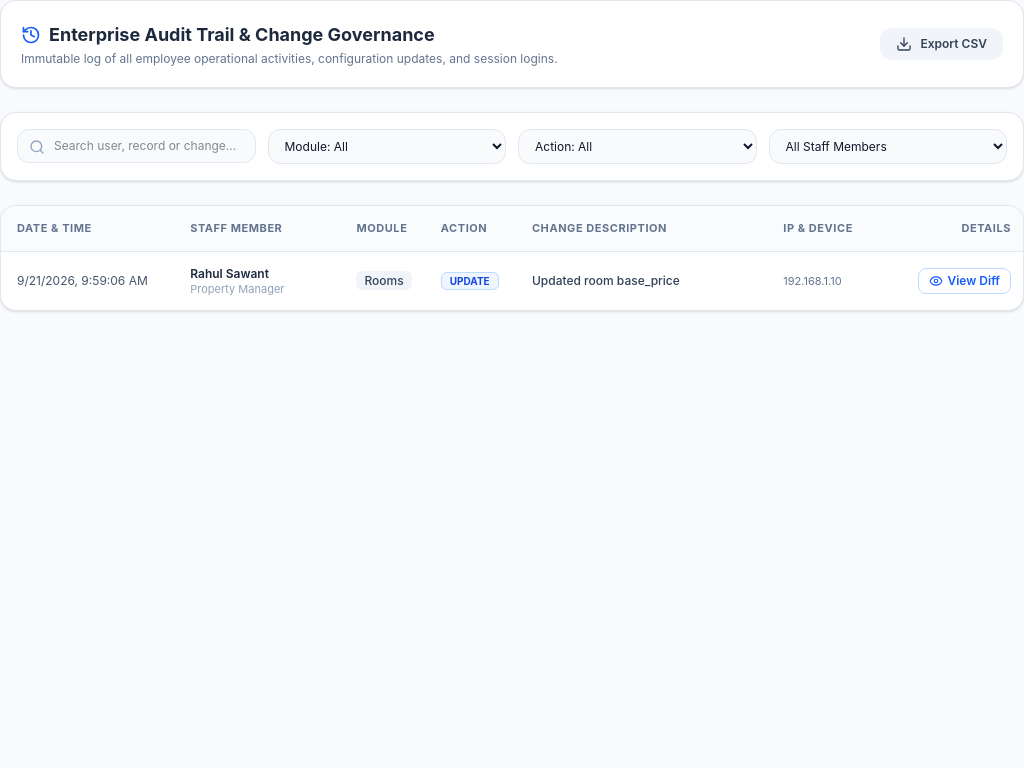
Scenario: Audit Trail & Session Management Suite › renders audit trail logs and opens diff inspector modal
This screenshot has width=1024, height=768.
Expected: the heading "Enterprise Audit Trail & Change Governance" is shown, [21,24,435,45]
Expected: the text "Rahul Sawant" is shown, [190,266,269,280]
// Click "View Diff"
Click the button "View Diff". click: (965, 281)
box: [918,268,1011,294]
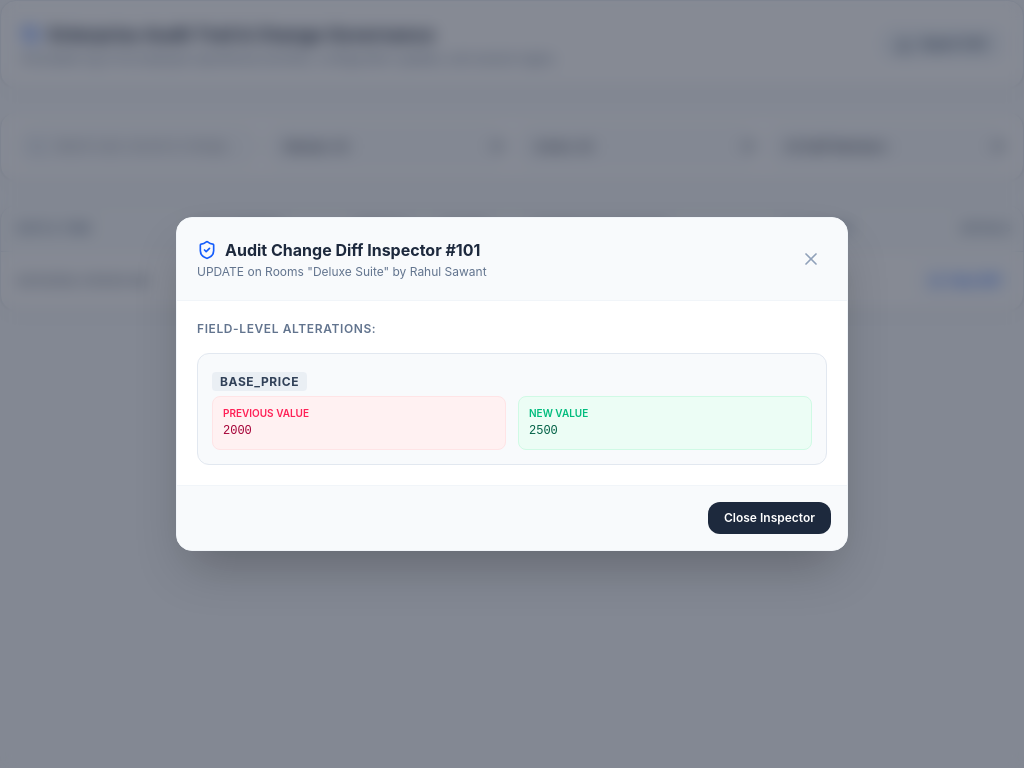
Result: the heading "Audit Change Diff Inspector #101" is shown at [197,238,487,262]
Result: the text "base_price" is shown at [212,372,307,391]
Result: the text "2000" is shown at [223,424,252,438]
